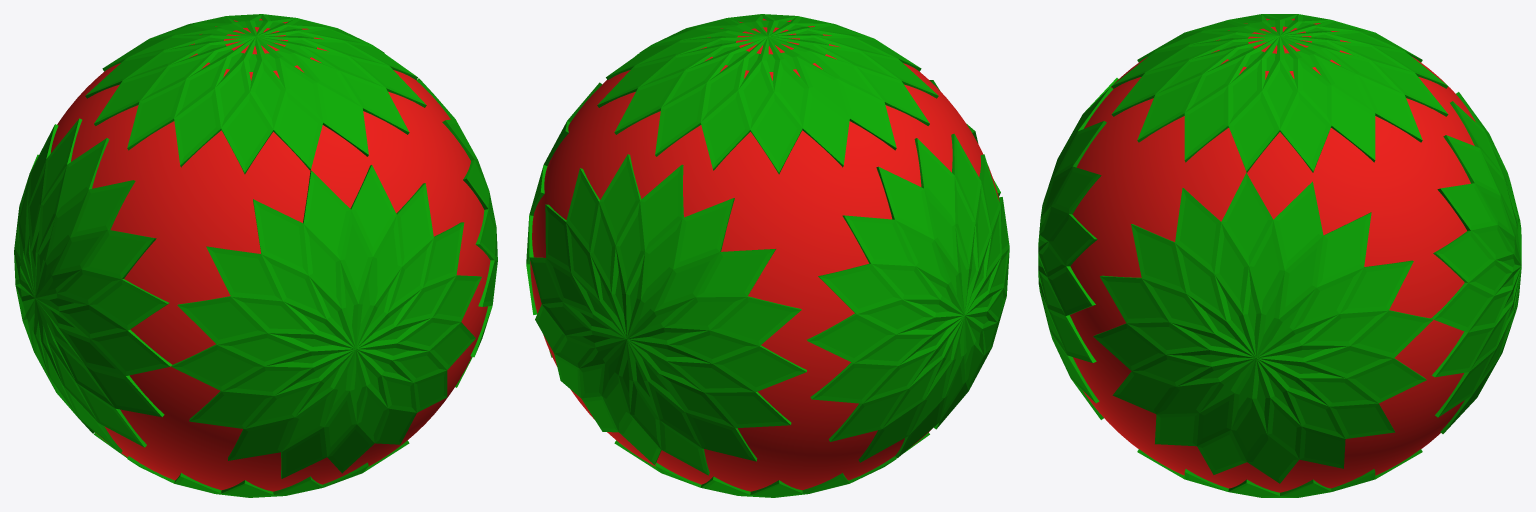
The model's file is ball.glb.
3 views of the same model, side by side, from view 1: azimuth 30°, elevation 25°; view 2: azimuth 150°, elevation 25°; view 3: azimuth 270°, elevation 25° (orthographic).
Parts seen in each view (by area): view 1: Sphere.002, Sphere; view 2: Sphere.002, Sphere; view 3: Sphere.002, Sphere.
Part boxes in pixels (left/top/right/bottom): Sphere.002: left=14, top=14, right=497, bottom=497; Sphere: left=50, top=18, right=490, bottom=491; Sphere.002: left=526, top=14, right=1009, bottom=497; Sphere: left=530, top=18, right=999, bottom=491; Sphere.002: left=1038, top=14, right=1521, bottom=497; Sphere: left=1070, top=18, right=1475, bottom=492.
Size of the model in its own units: 1.55 by 1.56 by 1.55.
